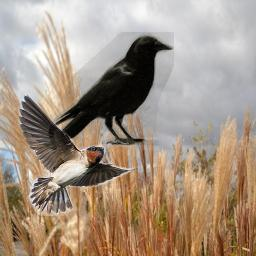Crow: (46, 32, 174, 150)
Swallow: (17, 92, 139, 216)
